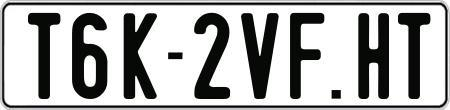2: (192, 13, 231, 101)
6: (72, 10, 113, 98)
F: (289, 13, 326, 101)
H: (356, 12, 390, 104)
K: (122, 12, 159, 102)
T: (26, 12, 64, 99), (398, 12, 436, 99)
V: (239, 10, 283, 97)
